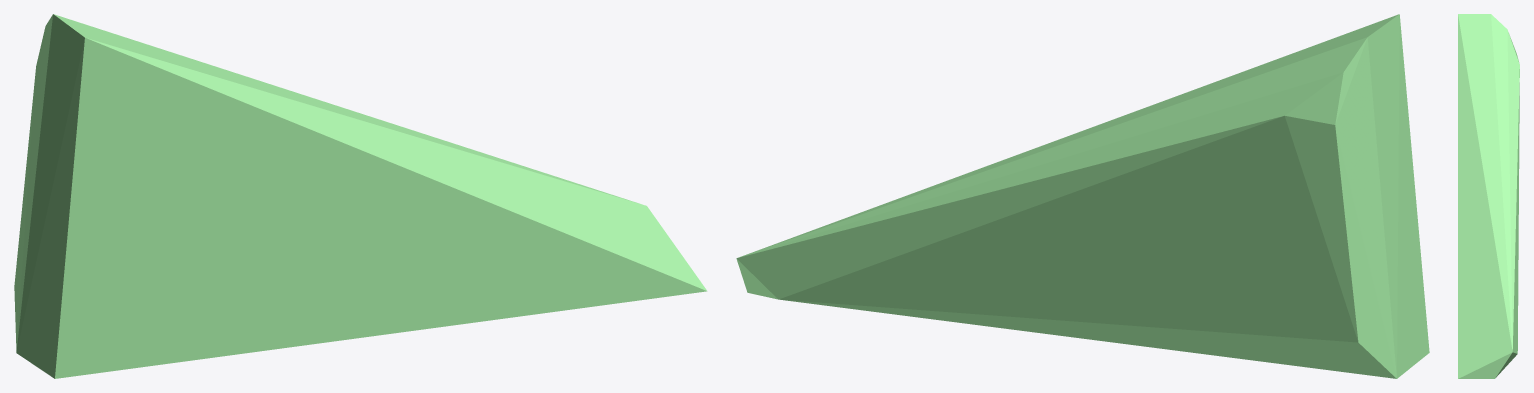
Rendered from UMIRobot_robot_base_coll_8.dae.
The picture shows the model from 3 angles, left to right: view 1: azimuth 30°, elevation 25°; view 2: azimuth 150°, elevation 25°; view 3: azimuth 270°, elevation 25°; orthographic projection. The views are drawn at different scales.
Visible parts, largest first — view 1: node; view 2: node; view 3: node.
Part boxes in pixels (x1,y1,x2,y2): node: (14,14,707,378); node: (736,14,1429,378); node: (1458,14,1519,378).
Size of the model in its own units: 0.0403 by 0.0239 by 0.0064.
